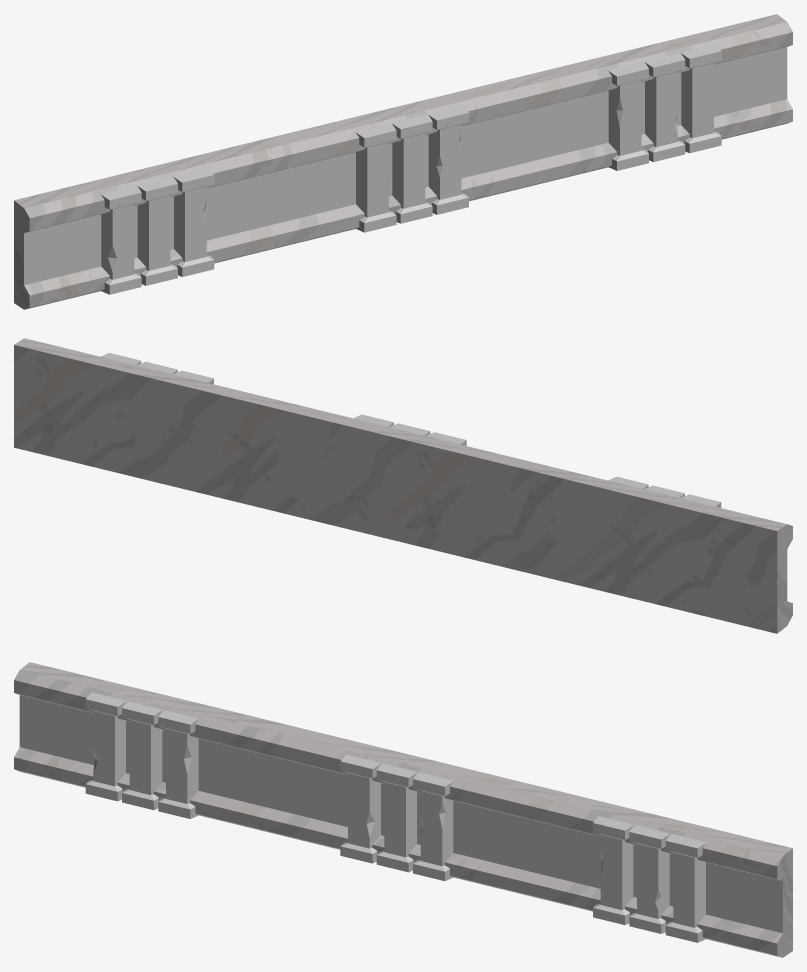
Rendered from SM_Bld_Trim_Large_02.fbx.
3 renders of one model, top to bottom at view 1: azimuth 30°, elevation 25°; view 2: azimuth 150°, elevation 25°; view 3: azimuth 330°, elevation 25°, orthographic.
Visible parts, largest first — view 1: SM_Bld_Trim_Large_02; view 2: SM_Bld_Trim_Large_02; view 3: SM_Bld_Trim_Large_02.
Boxes of the visible parts, x1=… form: SM_Bld_Trim_Large_02: x1=14, y1=14, x2=792, y2=309; SM_Bld_Trim_Large_02: x1=14, y1=338, x2=792, y2=633; SM_Bld_Trim_Large_02: x1=14, y1=662, x2=792, y2=957.
Bounding box in the file's own units: 750 × 96.69 × 33.84.
